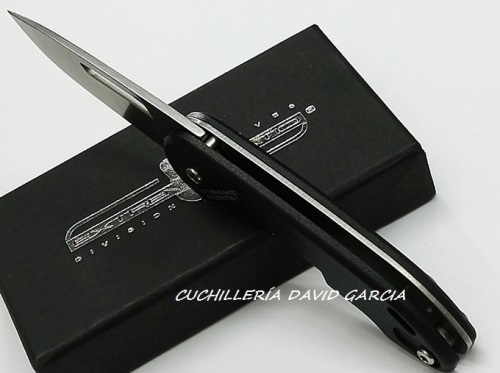knife: (4, 5, 183, 152)
